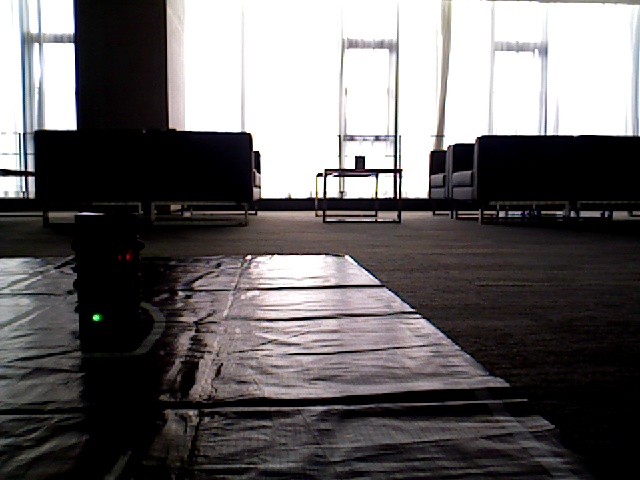green: (87, 237, 118, 342)
